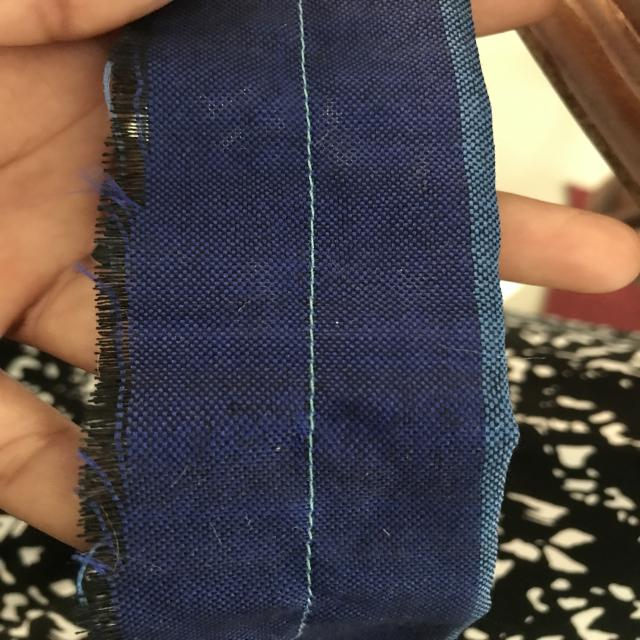good: (297, 213, 328, 381)
